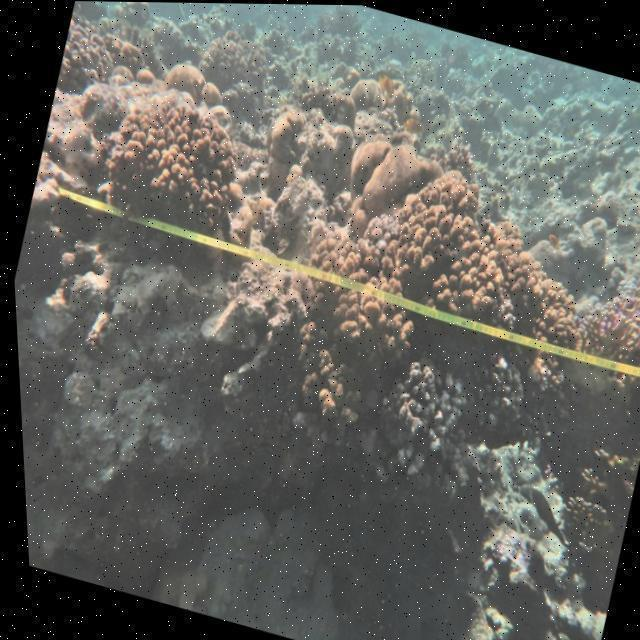Healthy Coral: (282, 150, 604, 483), (86, 83, 266, 253), (47, 1, 154, 123), (572, 271, 640, 386)
